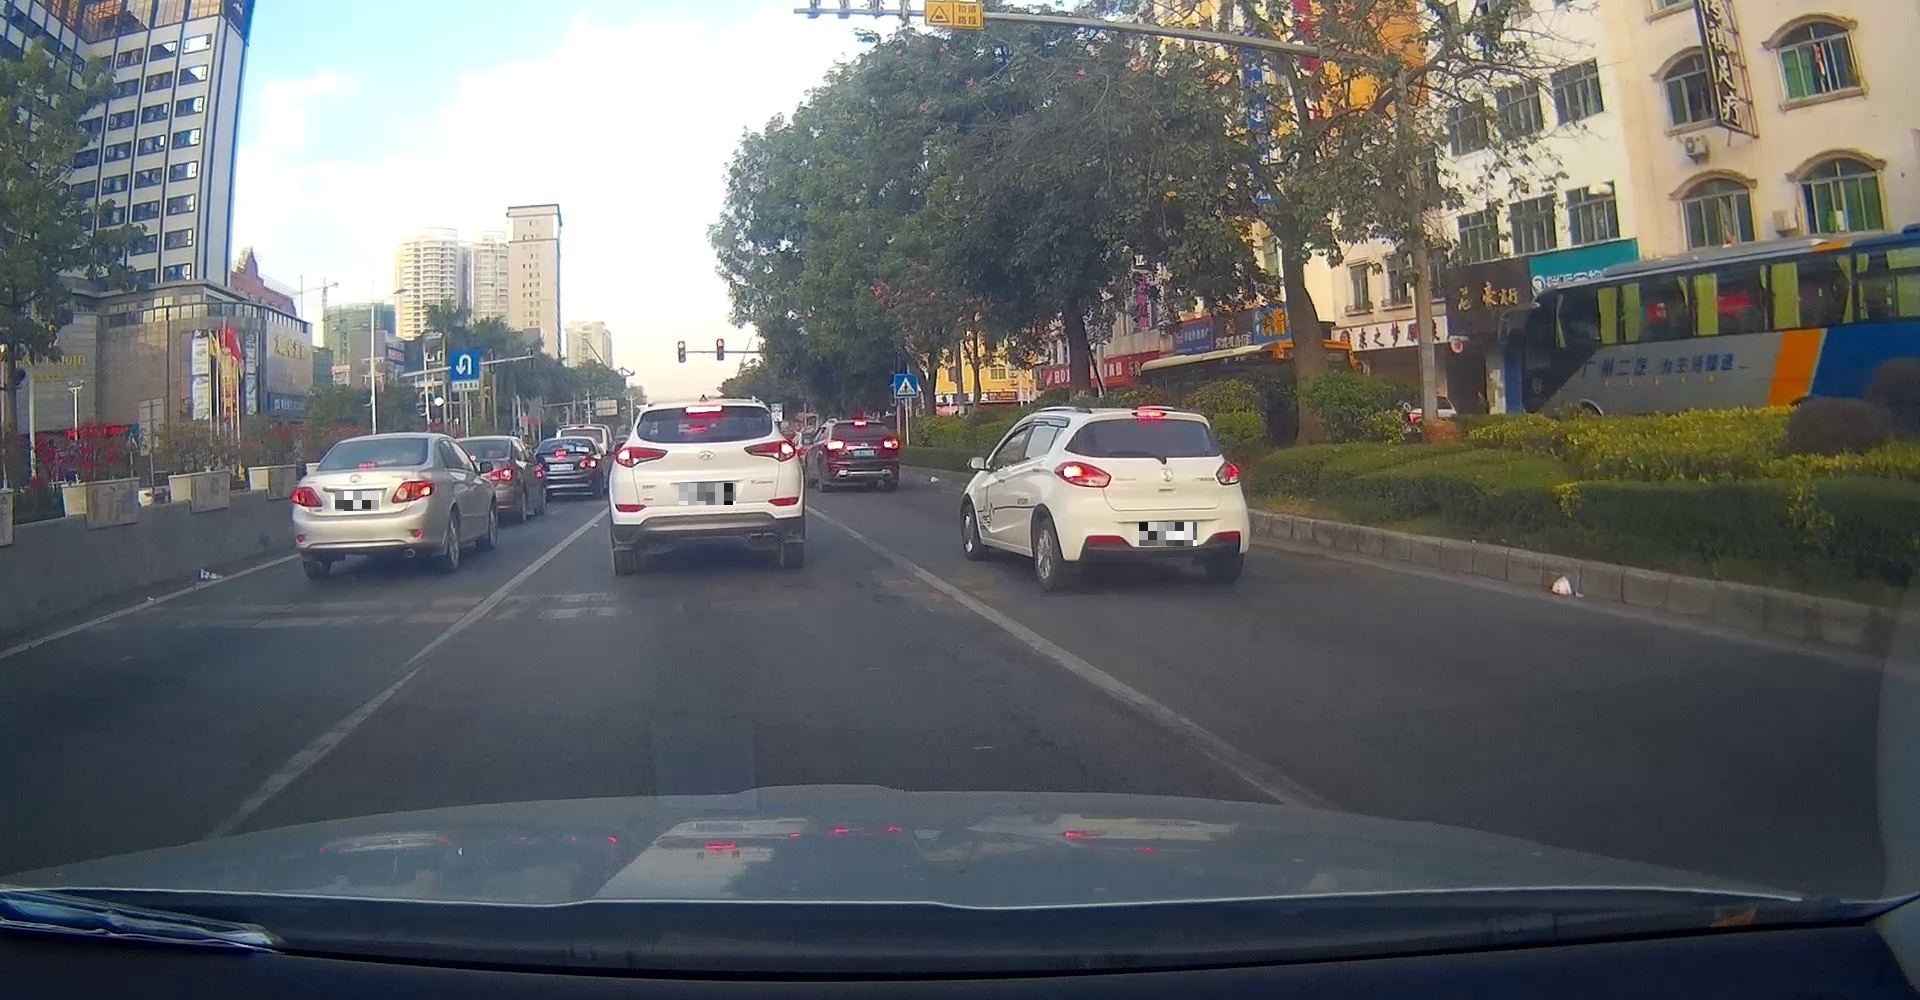L_light: (1053, 459, 1112, 489), (615, 445, 668, 470), (291, 486, 323, 508), (823, 440, 846, 452)
R_light: (743, 439, 797, 463), (391, 480, 434, 504), (1217, 459, 1242, 486), (883, 437, 899, 451)
T_light: (684, 406, 723, 412), (1135, 410, 1164, 418), (358, 463, 376, 468), (855, 421, 867, 426)
day-brake: (607, 398, 806, 576), (292, 431, 436, 577), (823, 416, 902, 492)
day-left: (1051, 401, 1251, 584)
plate_1: (335, 491, 378, 511)
plate_2: (679, 484, 737, 505)
plate_3: (1139, 522, 1197, 546)
